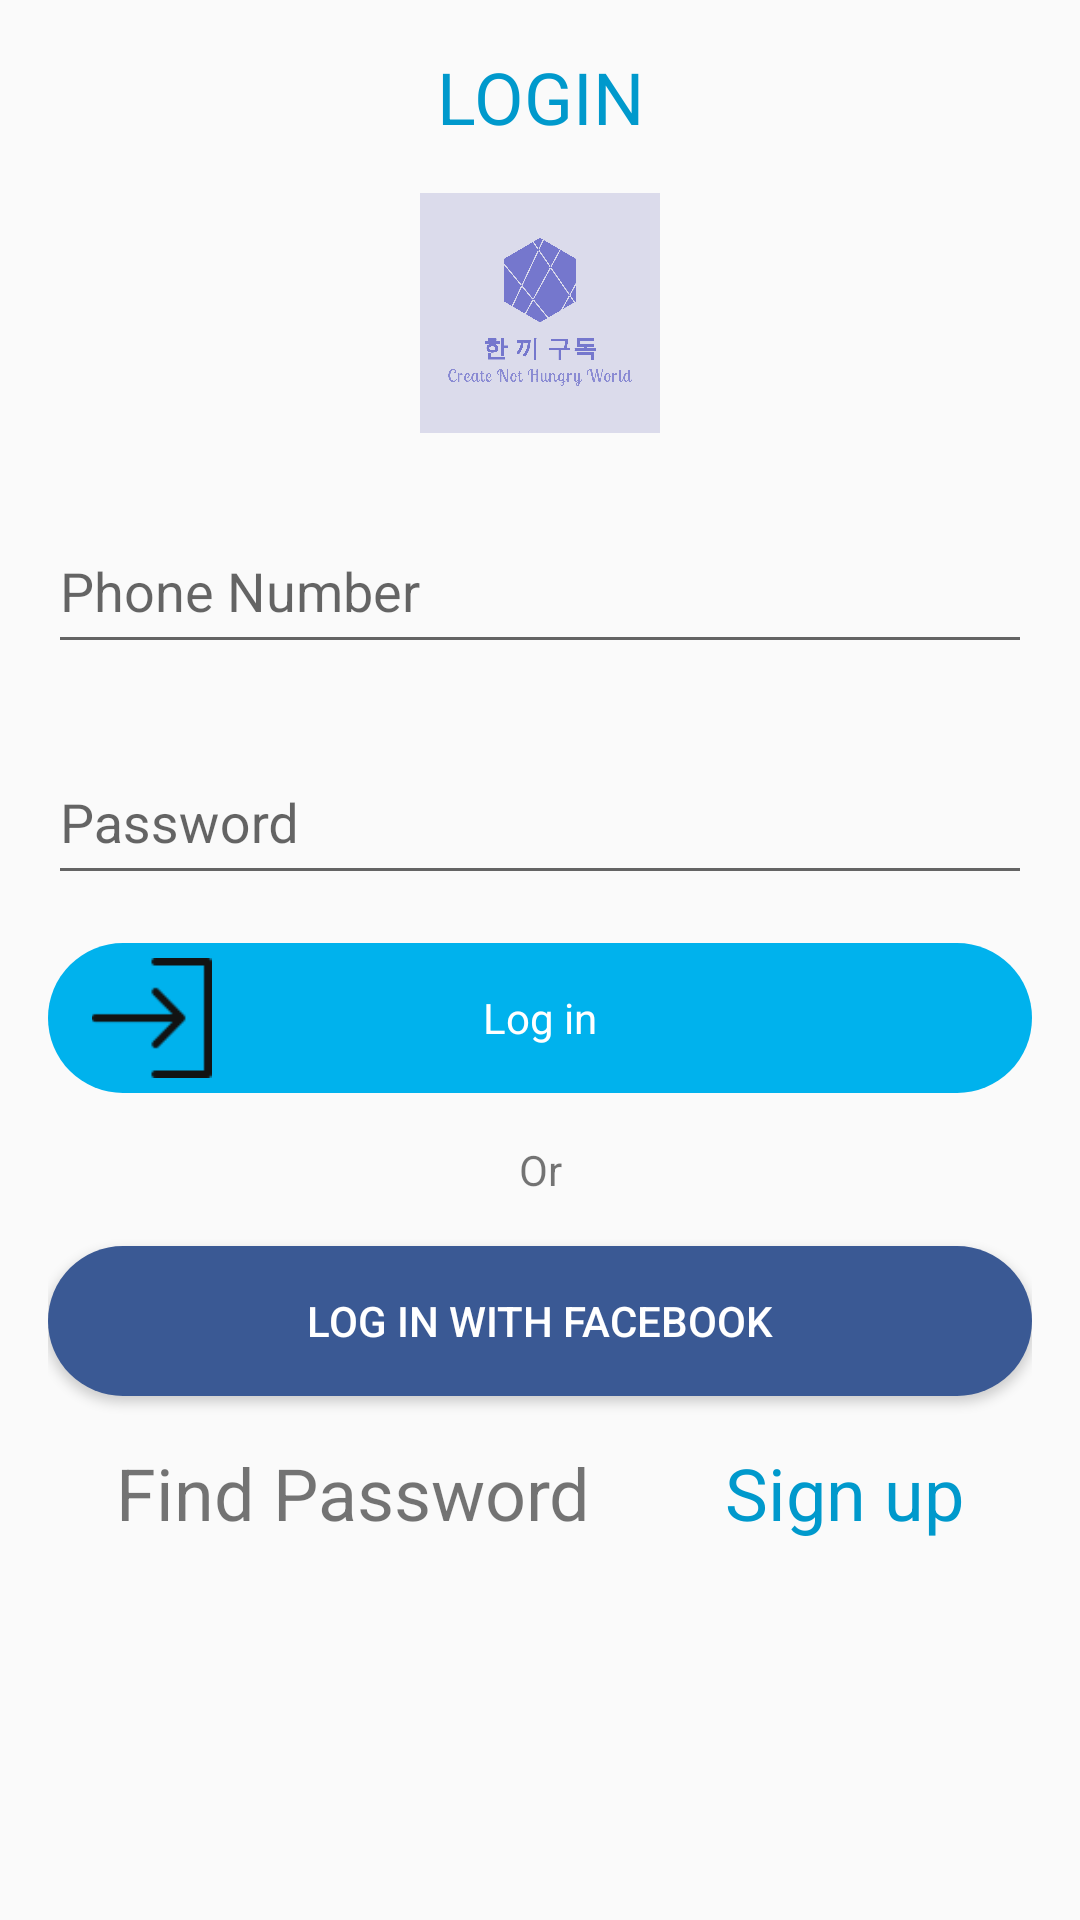

Point at icon controls on the screen. Image size 1080×1920, points as (x,y).
signin: (152,1018)
